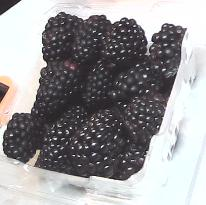berry: (67, 109, 127, 178), (32, 60, 84, 123), (111, 55, 162, 109), (98, 18, 146, 74), (123, 91, 166, 152), (34, 120, 75, 173), (149, 23, 186, 81), (80, 60, 124, 108), (41, 12, 81, 62), (70, 15, 111, 63), (2, 112, 38, 161)
